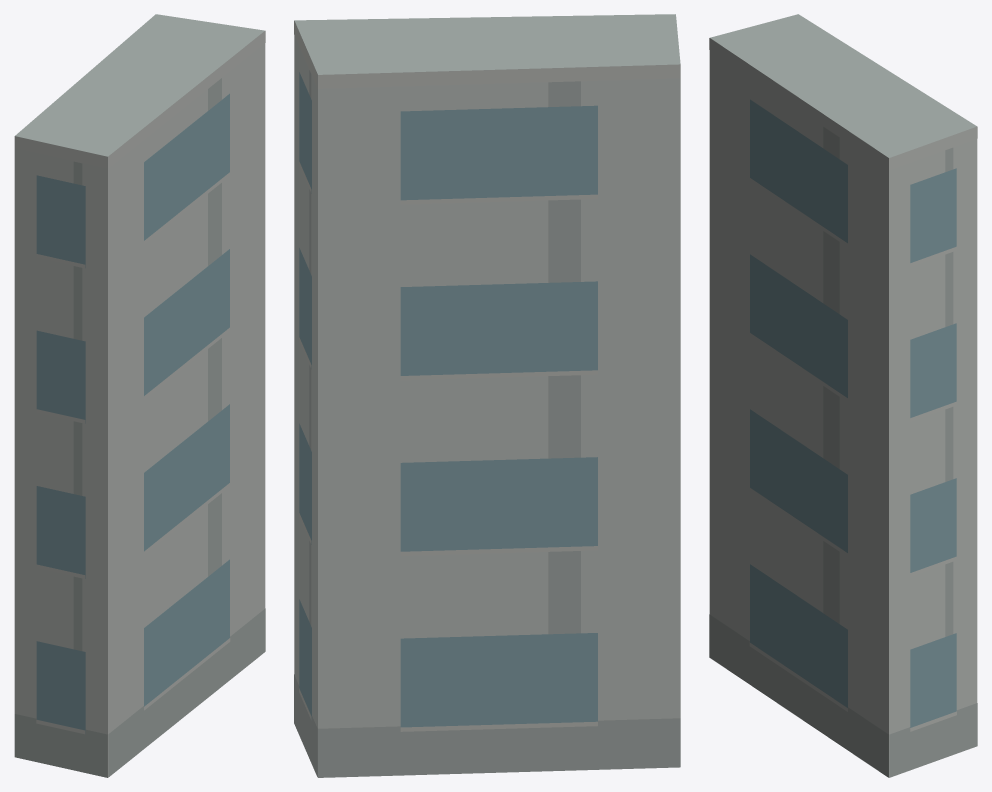
File: survey-upis-33017251.glb
The picture shows the model from 3 angles, left to right: view 1: azimuth 30°, elevation 25°; view 2: azimuth 150°, elevation 25°; view 3: azimuth 270°, elevation 25°; orthographic projection. The views are drawn at different scales.
Parts seen in each view (by area): view 1: survey-upis-33017251.tmp; view 2: survey-upis-33017251.tmp; view 3: survey-upis-33017251.tmp.
Boxes of the visible parts, <box> form: survey-upis-33017251.tmp: <box>14,14,265,777</box>; survey-upis-33017251.tmp: <box>294,14,680,777</box>; survey-upis-33017251.tmp: <box>709,14,977,777</box>.
Bounding box in the file's own units: 6.09 × 12.2 × 4.79.
